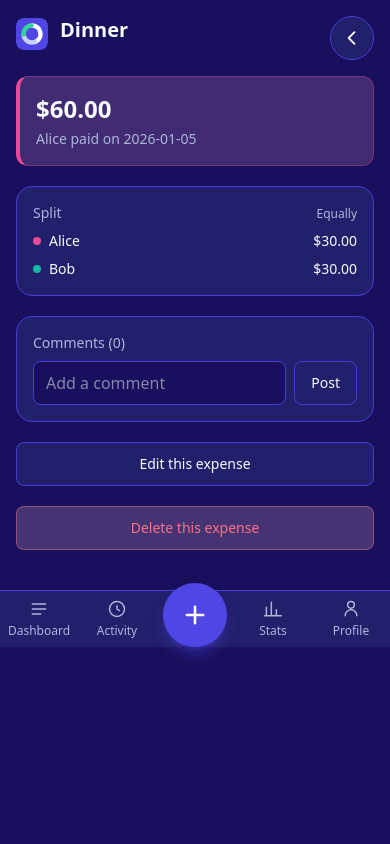
Test: ExpenseView › says what it does to the balances
Click the button with test id "delete-expense" at (195, 528), box [16,506,374,550]
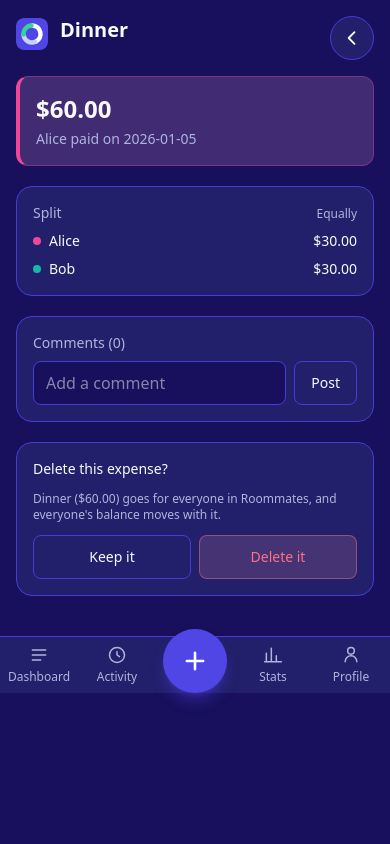
expect the text "everyone's balance" is shown: met, box [33,490,337,523]
